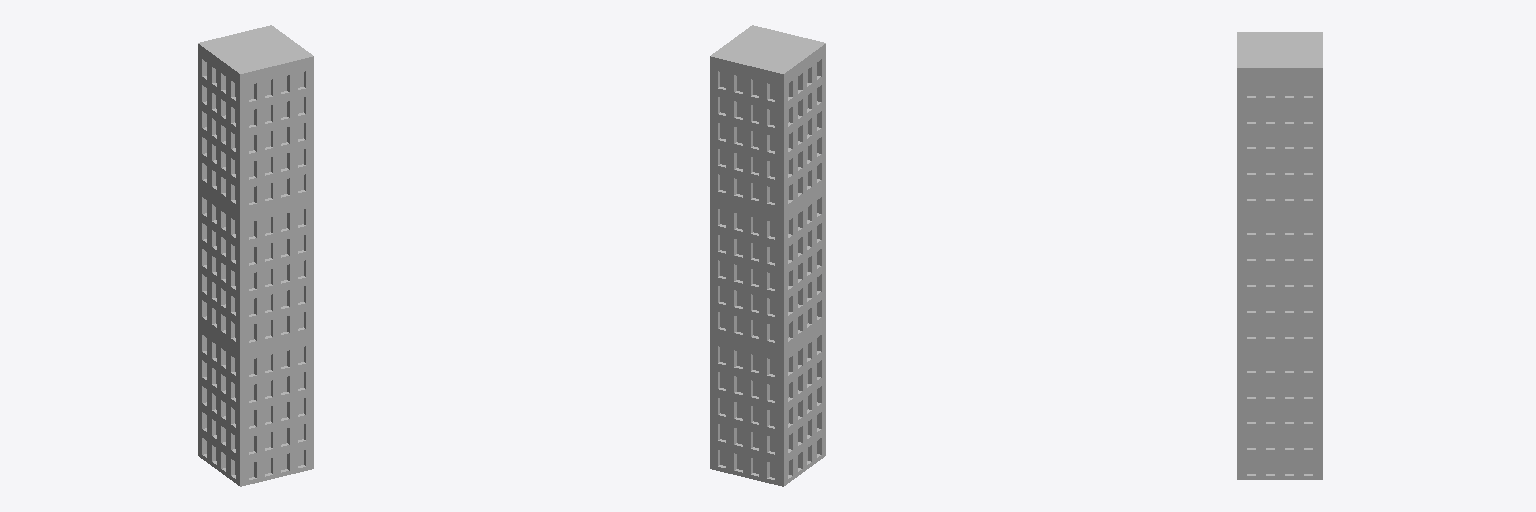
Rendered from uploads_files_2303668_skyscraperреб-1.obj.
3 views of the same model, side by side, from view 1: azimuth 30°, elevation 25°; view 2: azimuth 150°, elevation 25°; view 3: azimuth 270°, elevation 25° (orthographic).
Visible parts, largest first — view 1: object 1; view 2: object 1; view 3: object 1.
Part boxes in pixels (left/top/right/bottom): object 1: left=198, top=25, right=313, bottom=486; object 1: left=710, top=25, right=825, bottom=486; object 1: left=1237, top=32, right=1322, bottom=479.
Size of the model in its own units: 1.8 by 9.6 by 1.8.